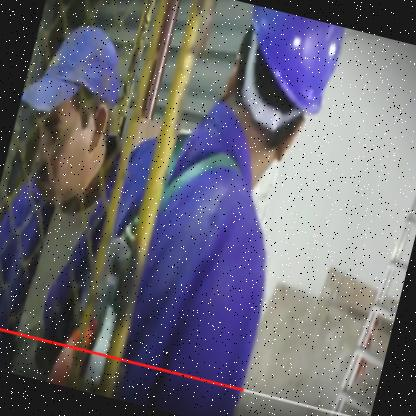capacete: (212, 3, 352, 160)
sem_capacete: (0, 8, 138, 211)
sem_colete_refletivo: (59, 95, 311, 415), (0, 125, 126, 365)
